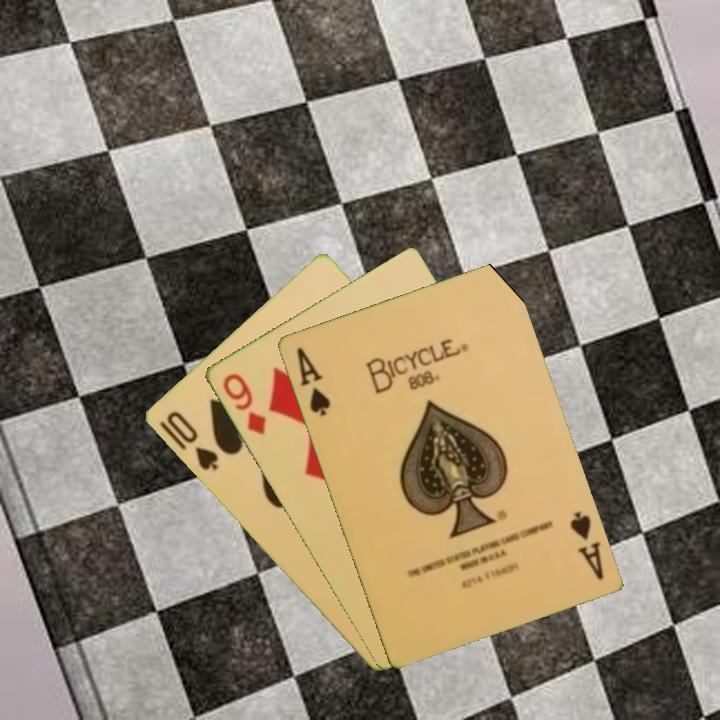10s: (162, 407, 221, 474)
9d: (218, 369, 269, 438)
As: (292, 344, 333, 419), (566, 507, 606, 583)
